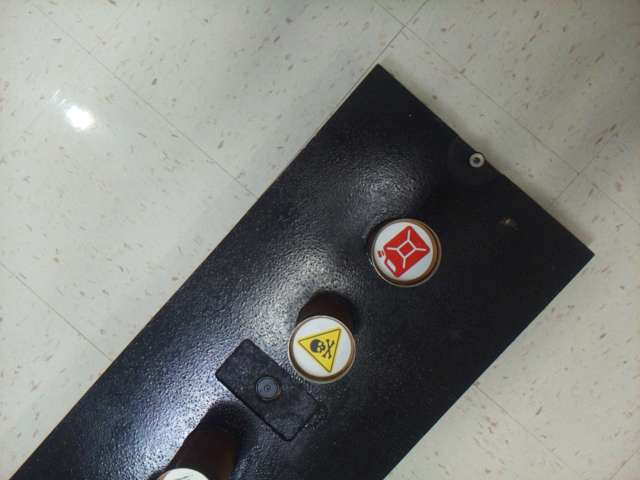gasoline: (375, 223, 432, 280)
toxic_fluid: (293, 320, 351, 376)
